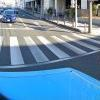crosswalks: (0, 34, 100, 66)
